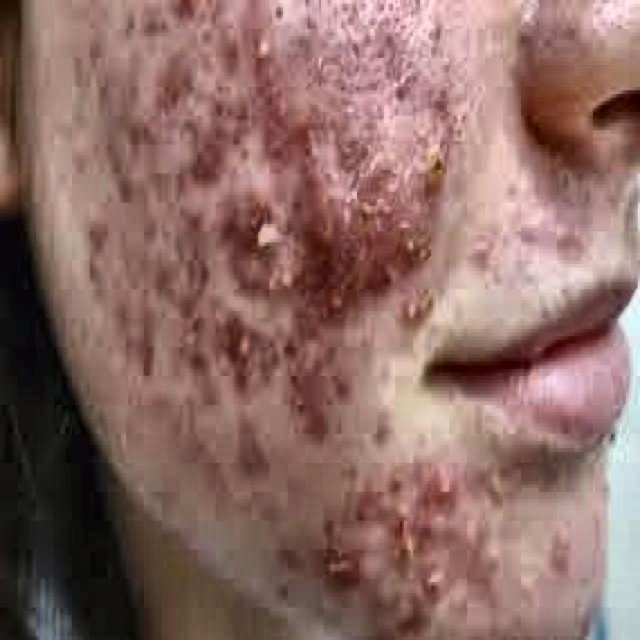nodule: (65, 11, 108, 72), (296, 387, 328, 459), (137, 326, 166, 394), (180, 192, 216, 246), (122, 108, 160, 156), (326, 546, 357, 604), (301, 308, 332, 366), (247, 213, 285, 260), (411, 560, 447, 608), (153, 54, 184, 109), (150, 250, 182, 300), (476, 463, 510, 510), (244, 177, 280, 221), (225, 430, 256, 481), (211, 14, 243, 62), (211, 105, 245, 148), (462, 228, 498, 268), (424, 137, 456, 181), (86, 199, 112, 253), (544, 521, 570, 575), (370, 387, 398, 437), (270, 528, 294, 586), (386, 58, 418, 101), (180, 253, 211, 297), (382, 452, 411, 499), (393, 286, 418, 340), (314, 492, 339, 546), (150, 163, 187, 199), (110, 275, 130, 340), (272, 87, 296, 141), (184, 134, 216, 174), (395, 232, 427, 272), (247, 65, 272, 112), (323, 358, 346, 409), (337, 448, 366, 488), (178, 326, 202, 372), (112, 166, 137, 210), (294, 120, 324, 156), (476, 532, 499, 578), (218, 202, 247, 238), (135, 286, 157, 332), (229, 322, 249, 372), (281, 358, 305, 398), (132, 203, 162, 235), (247, 32, 278, 62), (427, 80, 456, 112), (426, 470, 454, 503), (85, 65, 108, 105), (352, 484, 372, 528), (211, 289, 231, 333), (204, 441, 224, 485), (458, 517, 481, 553), (260, 264, 278, 307), (393, 517, 409, 564), (137, 11, 164, 36), (170, 0, 198, 22), (278, 264, 298, 293), (264, 0, 287, 25), (409, 492, 422, 535), (198, 369, 215, 401), (274, 332, 287, 368), (198, 80, 220, 101), (258, 326, 267, 372)
